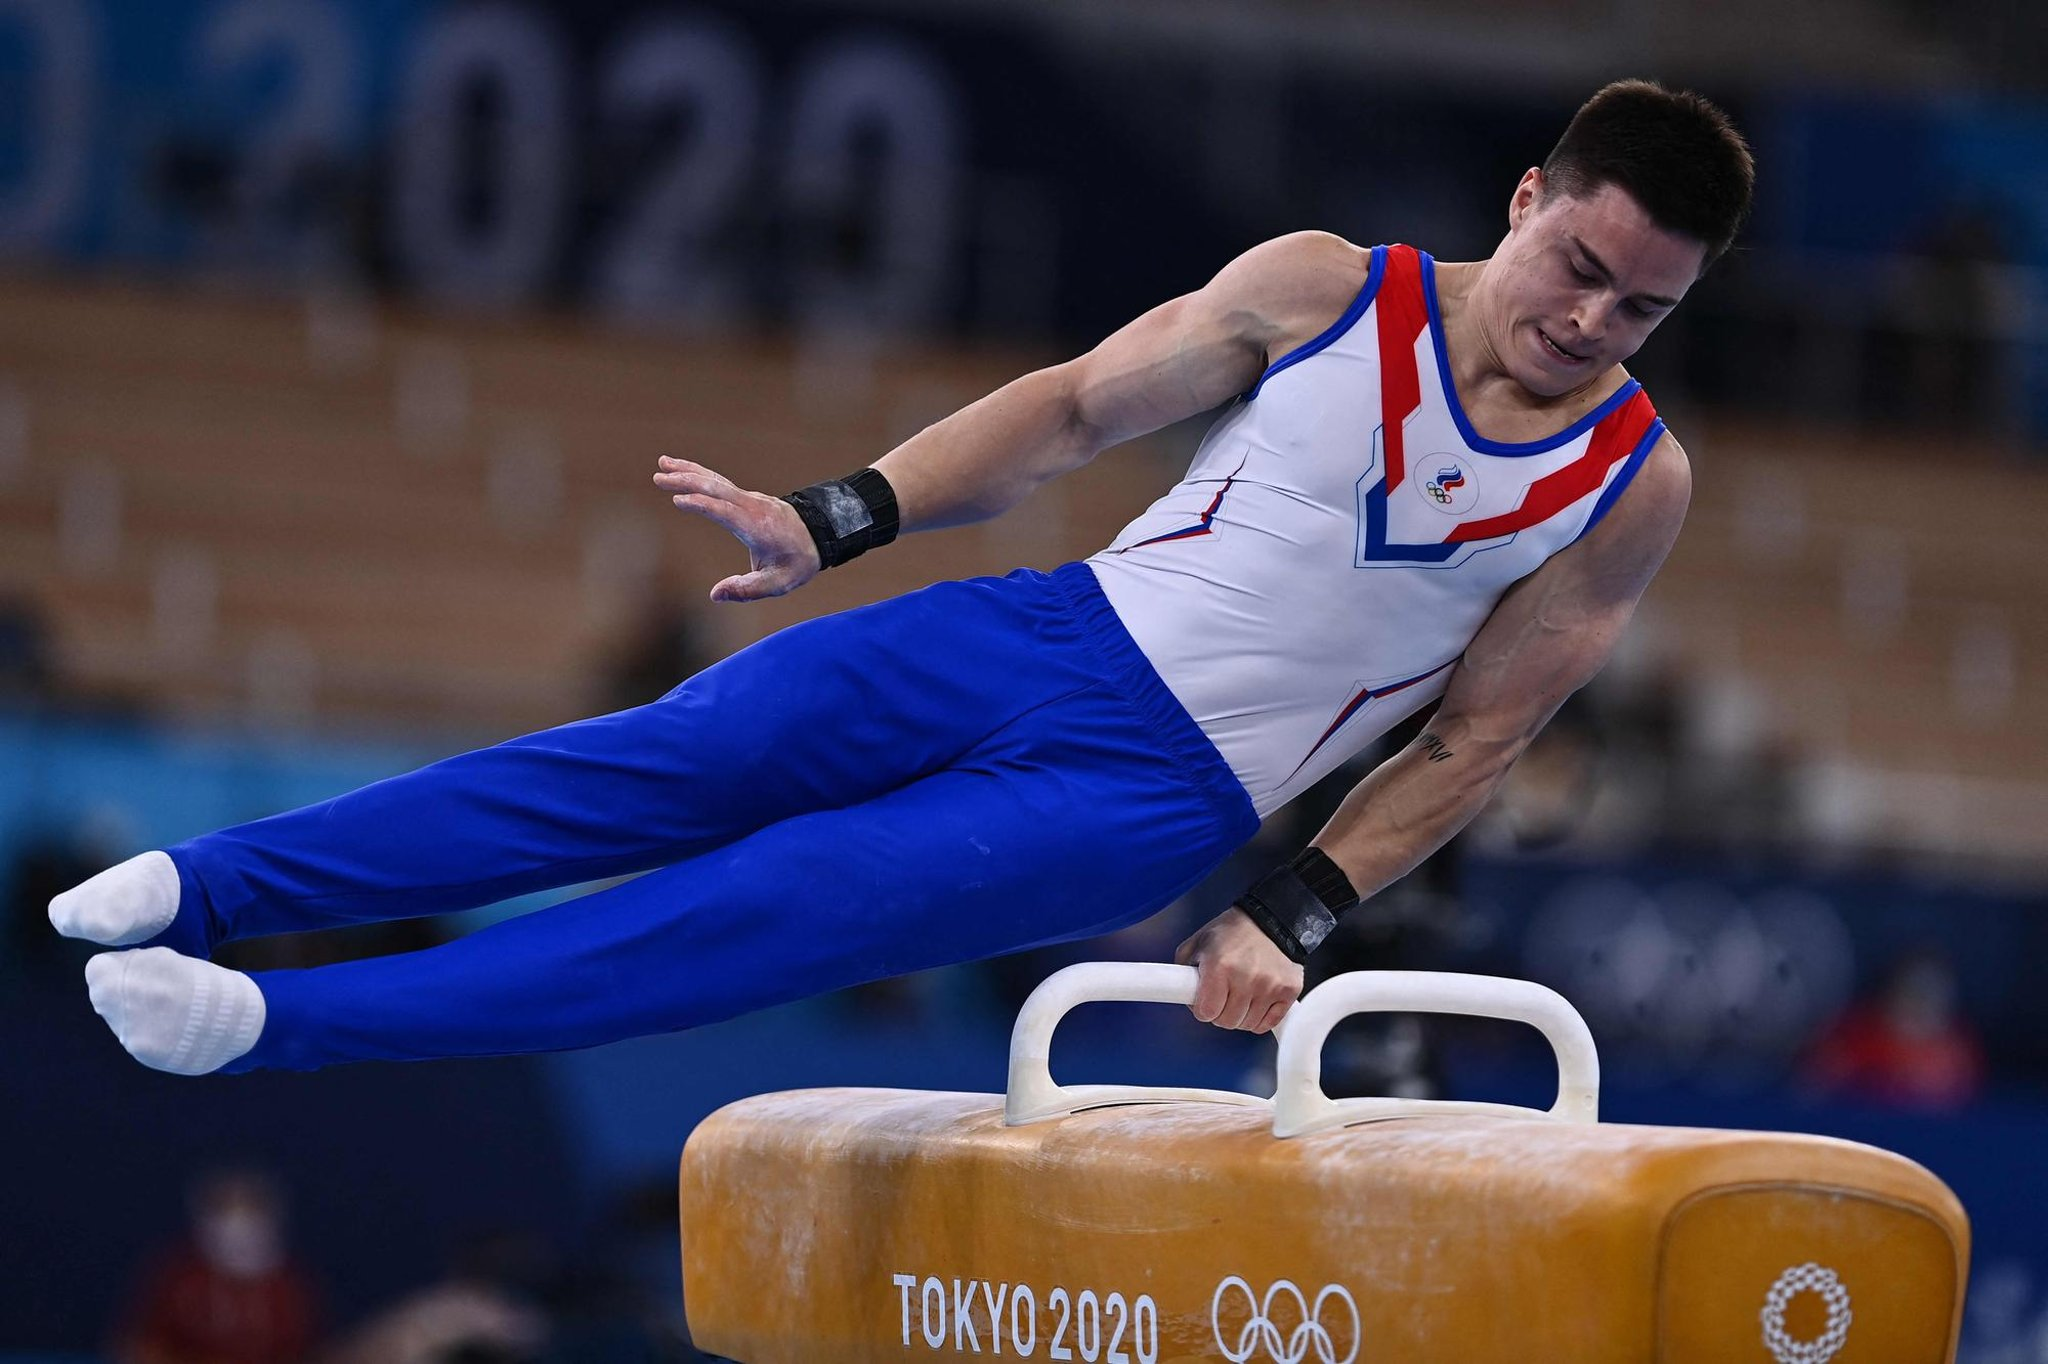without_mask: (1503, 194, 1676, 365)
